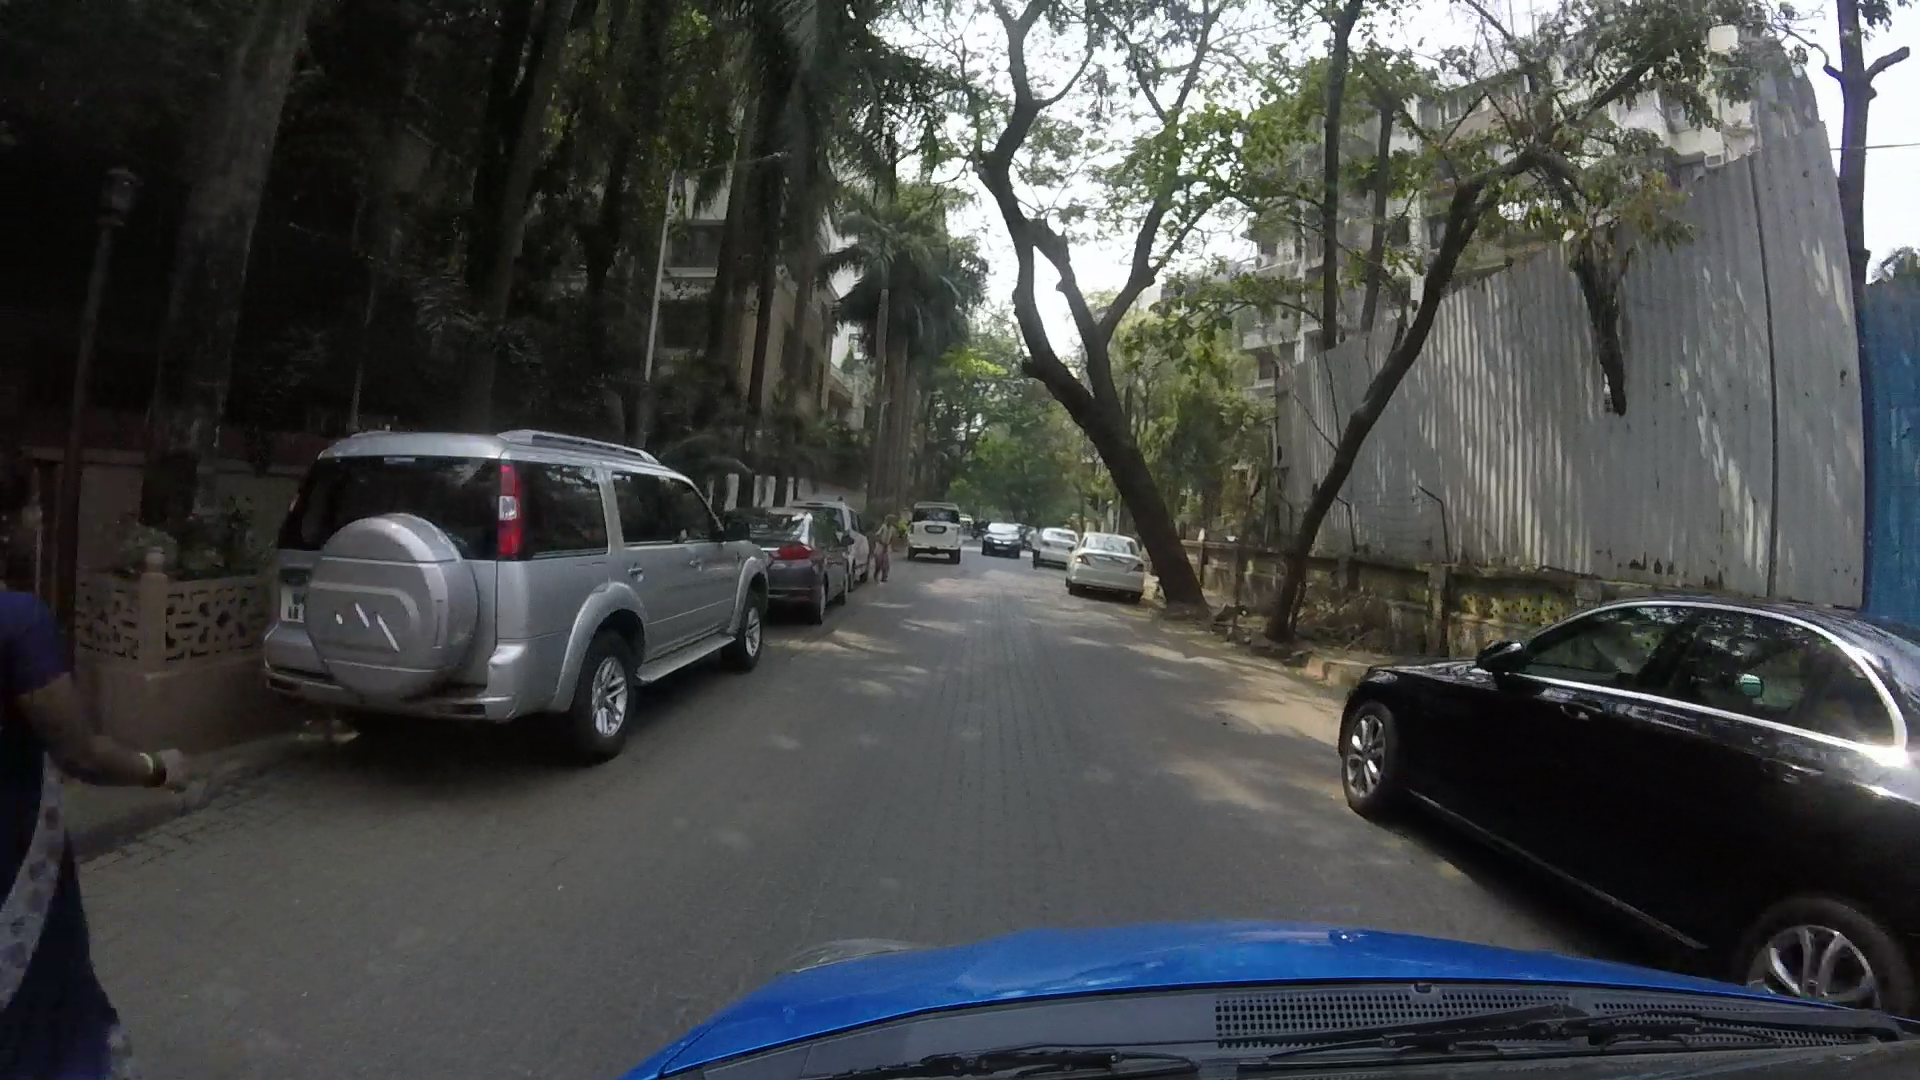car: (1328, 556, 1916, 992), (269, 427, 764, 752), (746, 504, 828, 616), (1063, 524, 1155, 601)
